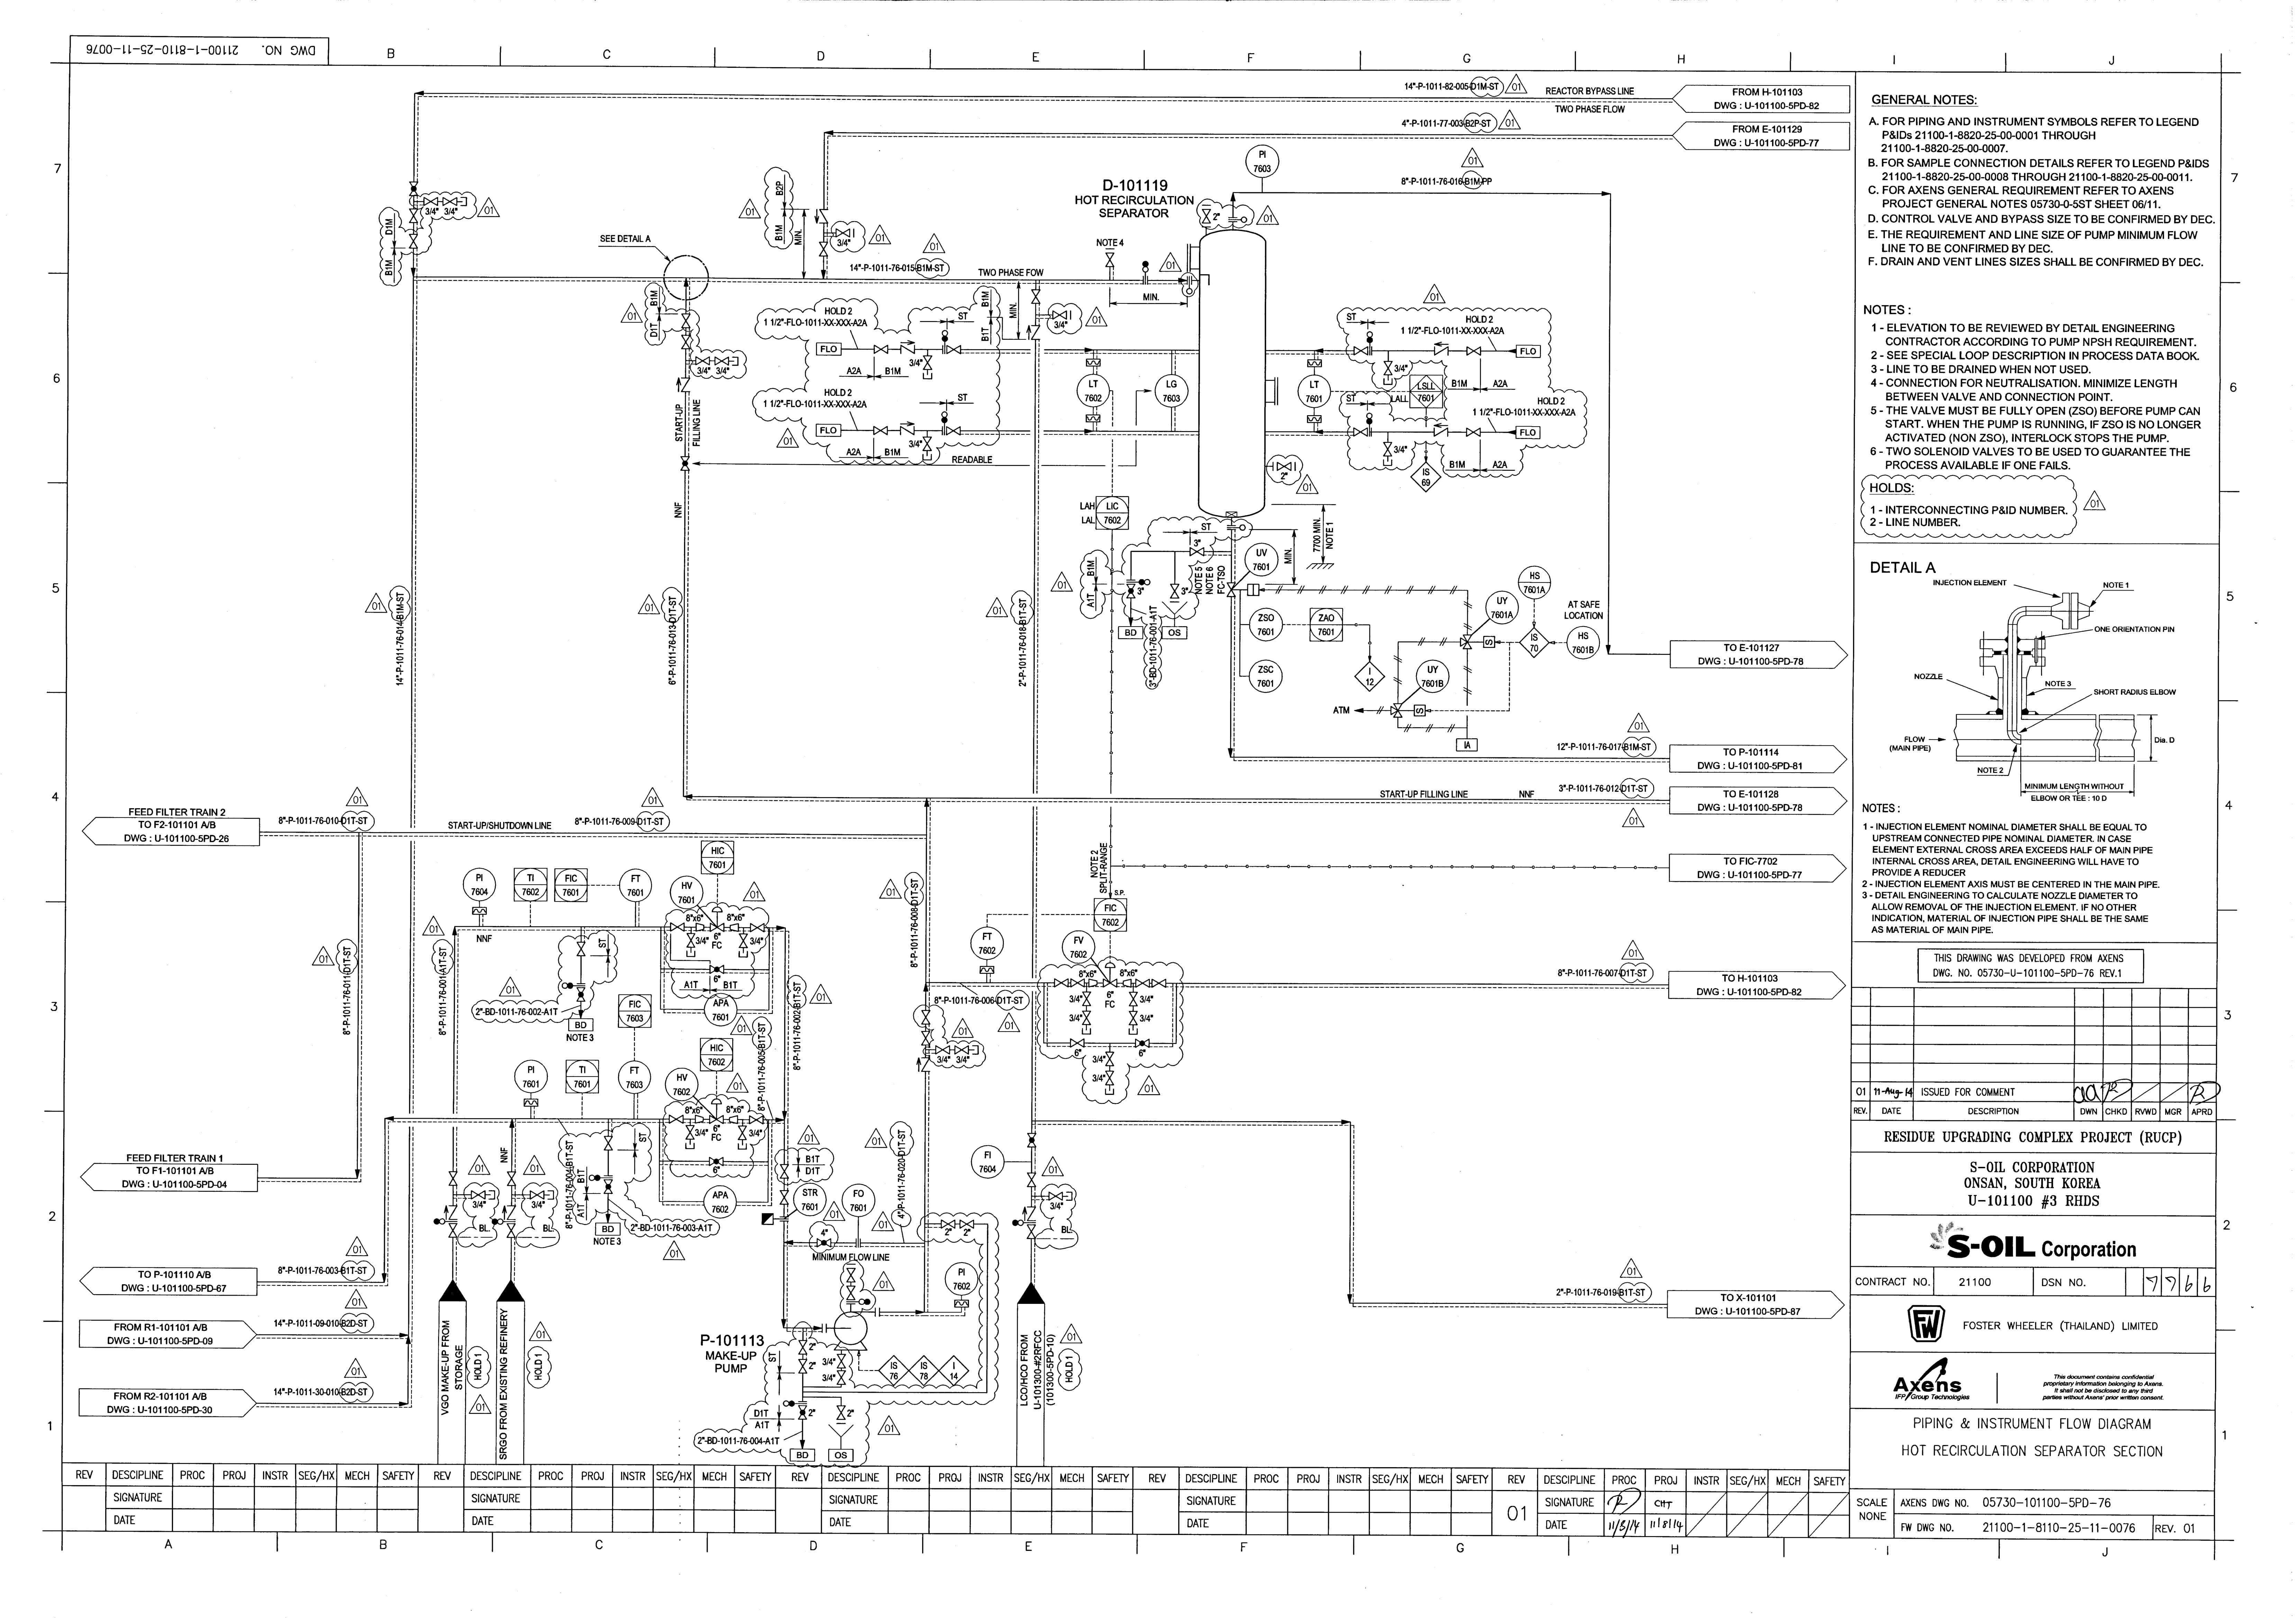butterfly0: (1133, 1038, 1151, 1049), (708, 1156, 725, 1166), (816, 1238, 834, 1249), (709, 965, 725, 975)
butterfly90: (680, 454, 692, 473), (408, 180, 419, 198), (576, 986, 587, 1003), (1126, 583, 1137, 599), (602, 1178, 613, 1194), (1026, 1133, 1037, 1149), (797, 1404, 807, 1420)
reduce0: (695, 921, 706, 932), (694, 1114, 704, 1124), (1088, 979, 1098, 988)
reduce180: (729, 923, 739, 933), (729, 1114, 739, 1124), (1123, 979, 1133, 988)
valvecontrol90: (1102, 961, 1119, 988), (708, 1098, 725, 1124), (709, 905, 725, 933)
